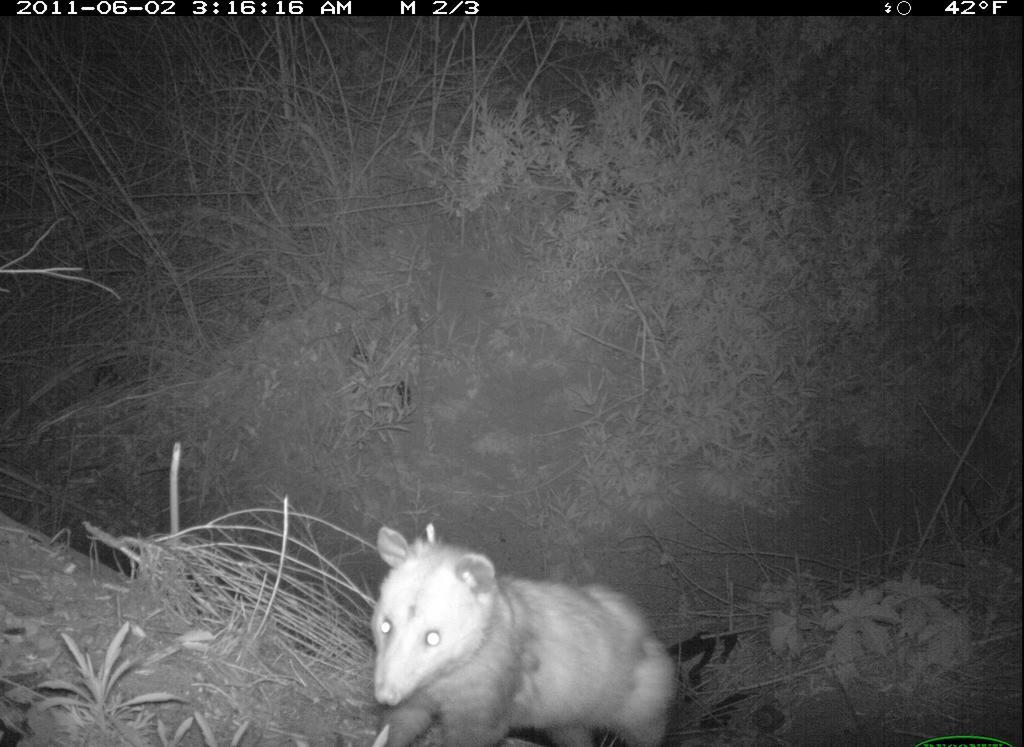opossum: (346, 524, 687, 747)
